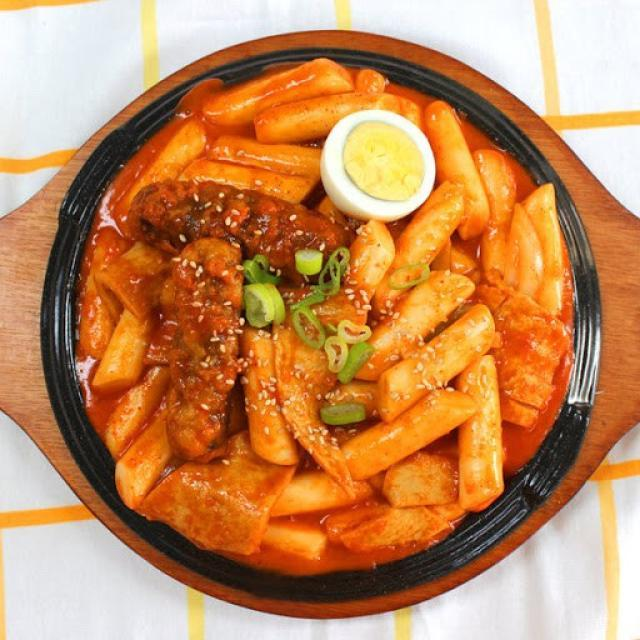banh gao: (74, 53, 567, 574)
banh gao cay tokbokki: (68, 43, 582, 579)
cha ca: (133, 175, 354, 285), (143, 446, 322, 577), (165, 236, 267, 465)
trung: (323, 110, 444, 219)
